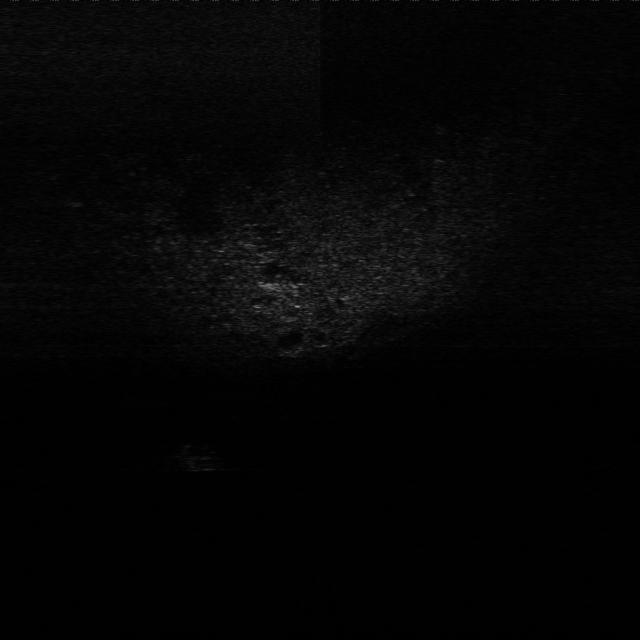circle cage: (172, 442, 236, 479)
